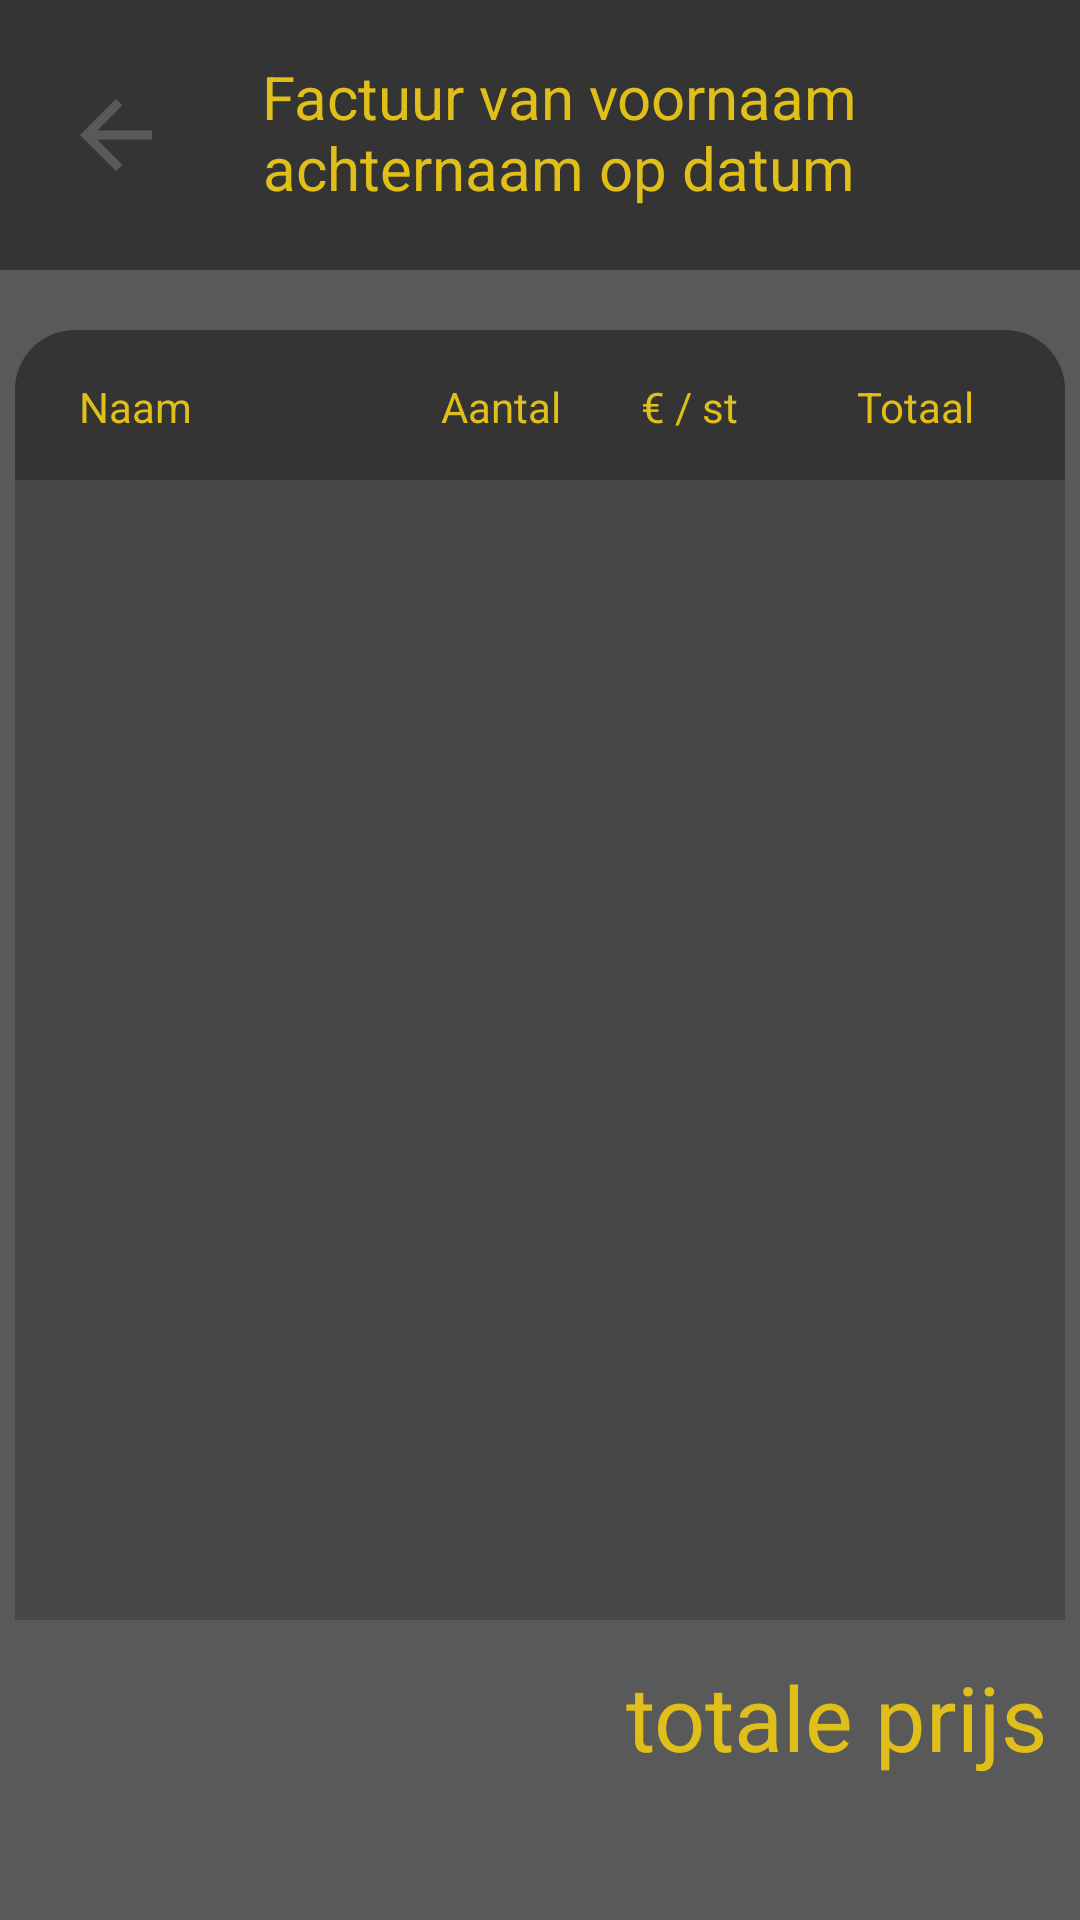

Where to tap for icons on this 1080px x 1920px app screen, as [x,y]:
keer terug naar vorige pagina: [116,135]
